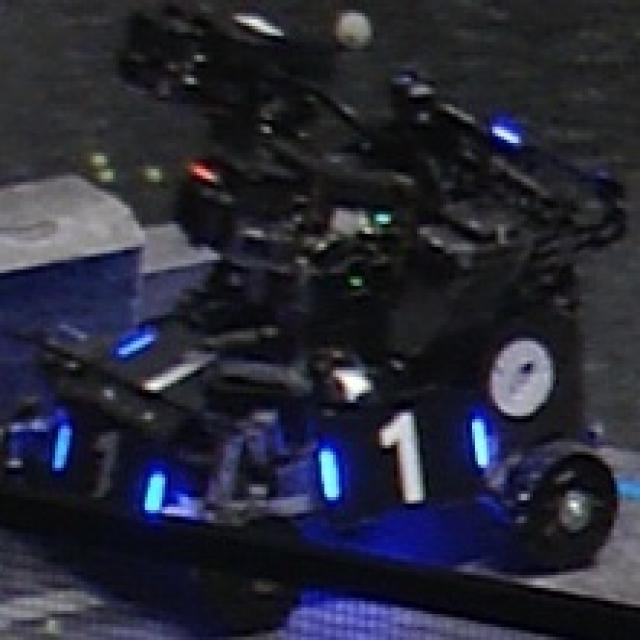B1: (304, 409, 489, 504), (113, 315, 237, 413), (38, 422, 168, 514)
